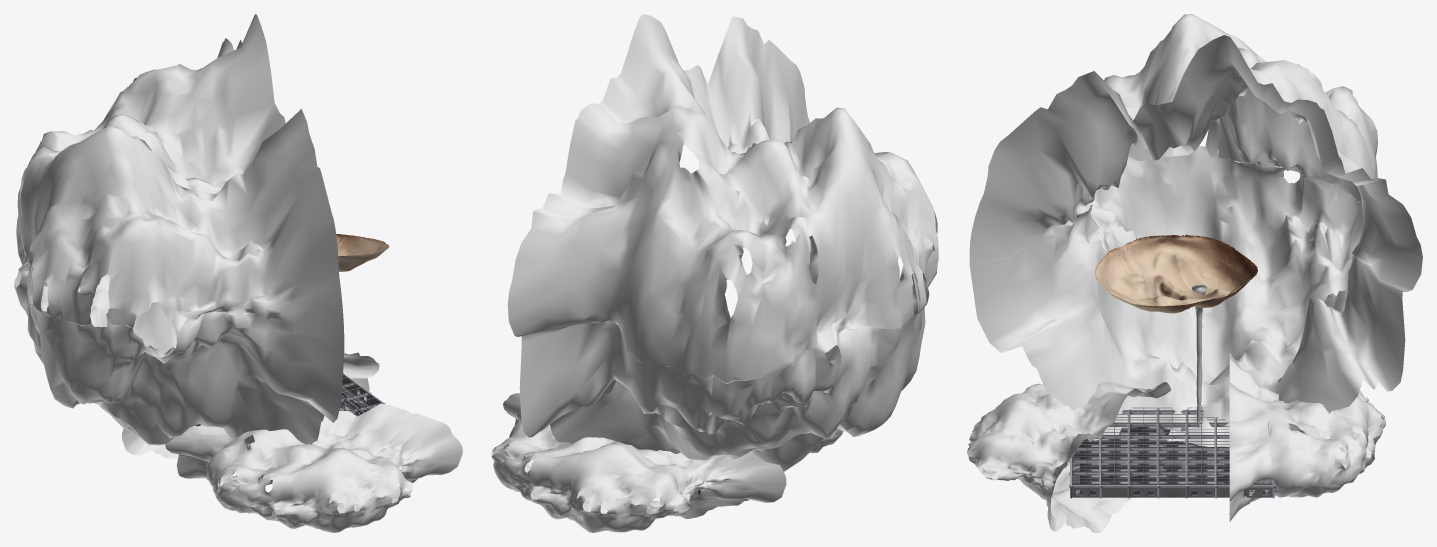
File: SPACE.fbx
The picture shows the model from 3 angles, left to right: view 1: azimuth 30°, elevation 25°; view 2: azimuth 150°, elevation 25°; view 3: azimuth 270°, elevation 25°; orthographic projection. The views are drawn at different scales.
Visible parts, largest first — view 1: Cave_Cave1_0.003, Cave_Cave1_0.002, Cave_Cave1_0.001, mesh; view 2: Cave_Cave1_0.003, Cave_Cave1_0.001; view 3: Cave_Cave1_0.003, Cave_Cave1_0.001, Cave_Cave1_0.002, mesh, group_168_ID1182, group_0_ID4, tentecle.
Part boxes in pixels (x1=…): Cave_Cave1_0.003: x1=14, y1=14, x2=344, y2=445; Cave_Cave1_0.002: x1=165, y1=403, x2=462, y2=532; Cave_Cave1_0.001: x1=122, y1=352, x2=379, y2=458; mesh: x1=336, y1=234, x2=389, y2=271; Cave_Cave1_0.003: x1=507, y1=14, x2=938, y2=471; Cave_Cave1_0.001: x1=491, y1=393, x2=786, y2=532; Cave_Cave1_0.003: x1=969, y1=14, x2=1422, y2=446; Cave_Cave1_0.001: x1=1229, y1=353, x2=1385, y2=521; Cave_Cave1_0.002: x1=967, y1=381, x2=1171, y2=532; mesh: x1=1095, y1=234, x2=1257, y2=313; group_168_ID1182: x1=1072, y1=427, x2=1264, y2=494; group_0_ID4: x1=1069, y1=408, x2=1275, y2=498; tentecle: x1=1192, y1=285, x2=1207, y2=427.
Bounding box in the file's own units: 135 × 163 × 141.
